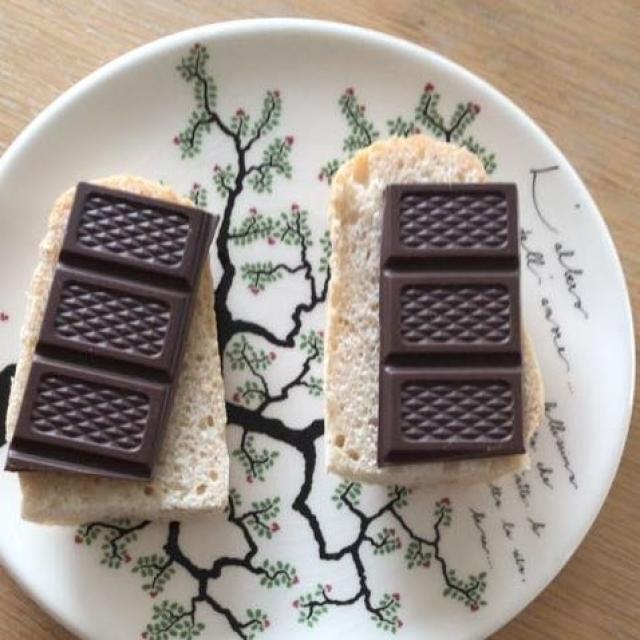bread: (18, 146, 549, 536), (17, 142, 534, 520)
chocolate: (13, 182, 518, 483), (4, 184, 526, 475)
